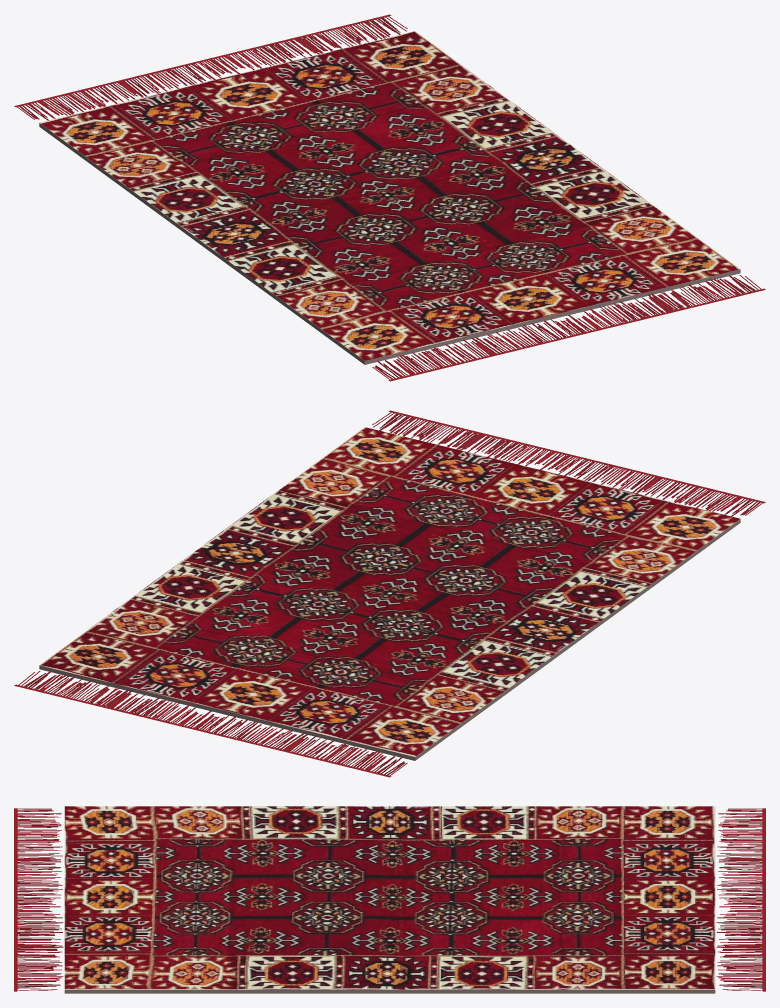
3 views of the same model, one above another, from view 1: azimuth 30°, elevation 25°; view 2: azimuth 150°, elevation 25°; view 3: azimuth 270°, elevation 25° (orthographic).
Visible parts, largest first — view 1: rug, fringeB, fringeA, side; view 2: rug, fringeA, fringeB, side; view 3: rug, fringeA, fringeB, side.
Part boxes in pixels (left/top/right/bottom): rug: left=39, top=31, right=739, bottom=360; fringeB: left=372, top=275, right=765, bottom=381; fringeA: left=14, top=14, right=407, bottom=120; side: left=39, top=123, right=740, bottom=364; rug: left=40, top=427, right=740, bottom=756; fringeA: left=14, top=671, right=407, bottom=777; fringeB: left=372, top=410, right=765, bottom=516; side: left=39, top=519, right=740, bottom=760; rug: left=64, top=806, right=715, bottom=989; fringeA: left=716, top=808, right=765, bottom=991; fringeB: left=14, top=808, right=63, bottom=991; side: left=64, top=989, right=715, bottom=993.
Size of what is drawn, in the model's own units: 0.6 by 0.00614 by 1.04.
Materials: 2 (2 with a texture image).
